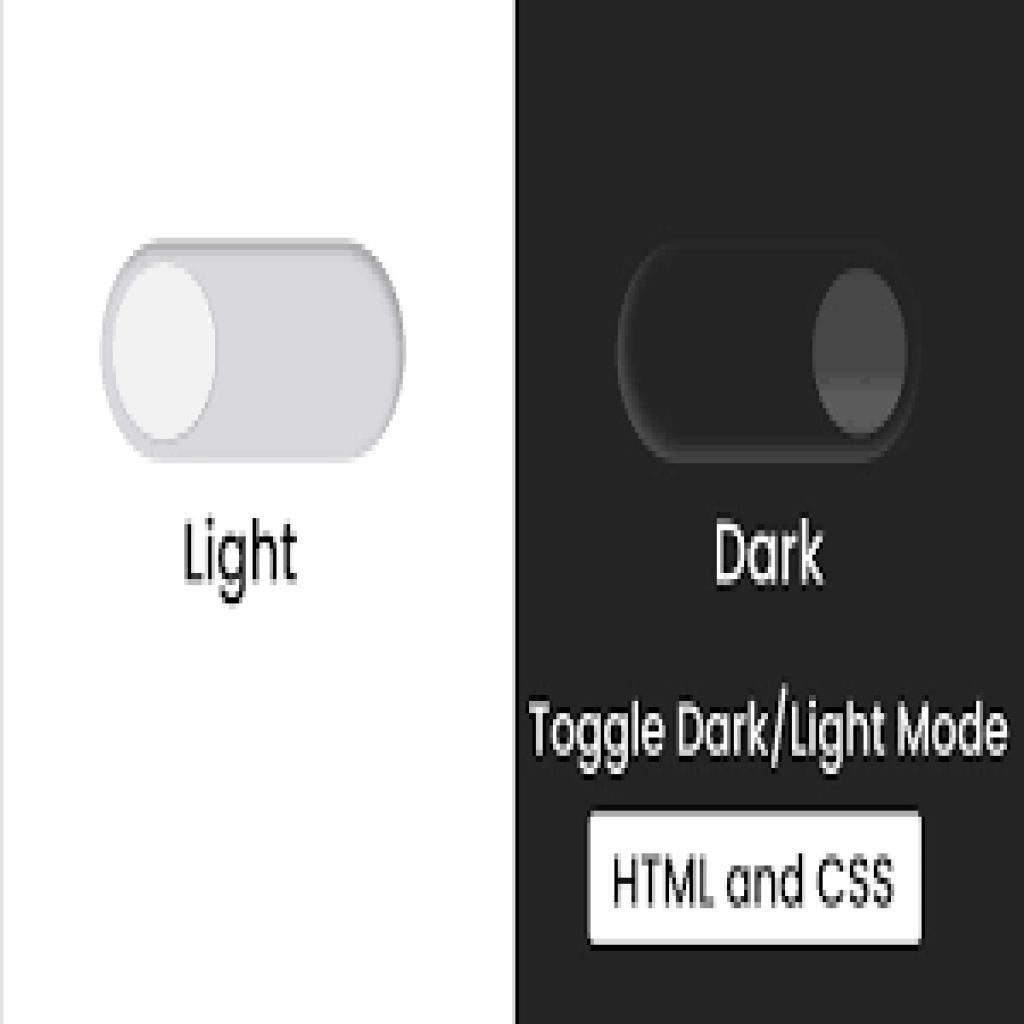button: (590, 814, 923, 945)
switch: (614, 231, 925, 467), (105, 245, 409, 461)
